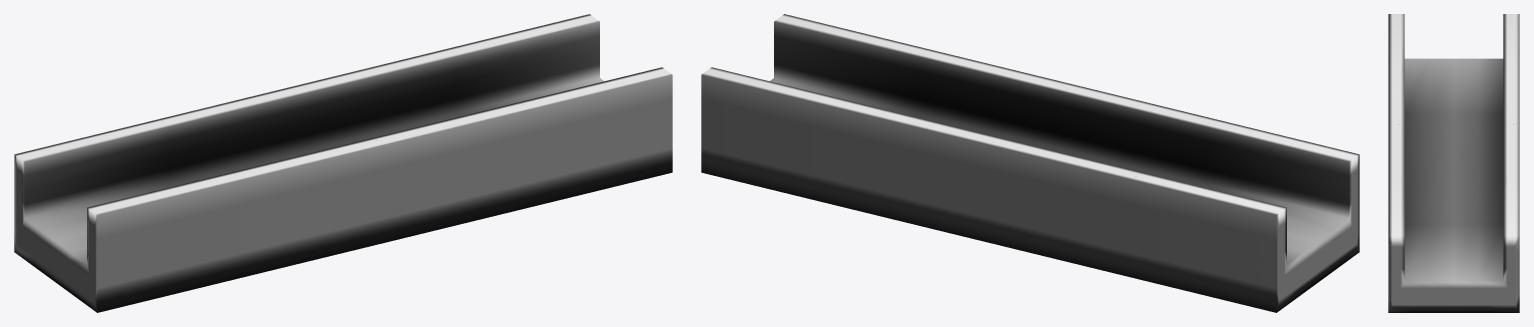
The picture shows the model from 3 angles, left to right: view 1: azimuth 30°, elevation 25°; view 2: azimuth 150°, elevation 25°; view 3: azimuth 270°, elevation 25°; orthographic projection. The views are drawn at different scales.
Visible parts, largest first — view 1: defaultobject; view 2: defaultobject; view 3: defaultobject.
Boxes of the visible parts, bbox=[...] form: defaultobject: bbox=[14, 14, 672, 312]; defaultobject: bbox=[701, 14, 1359, 312]; defaultobject: bbox=[1388, 14, 1519, 312].
Bounding box in the file's own units: 1 × 0.1625 × 0.25.
1 material, 1 textured.
